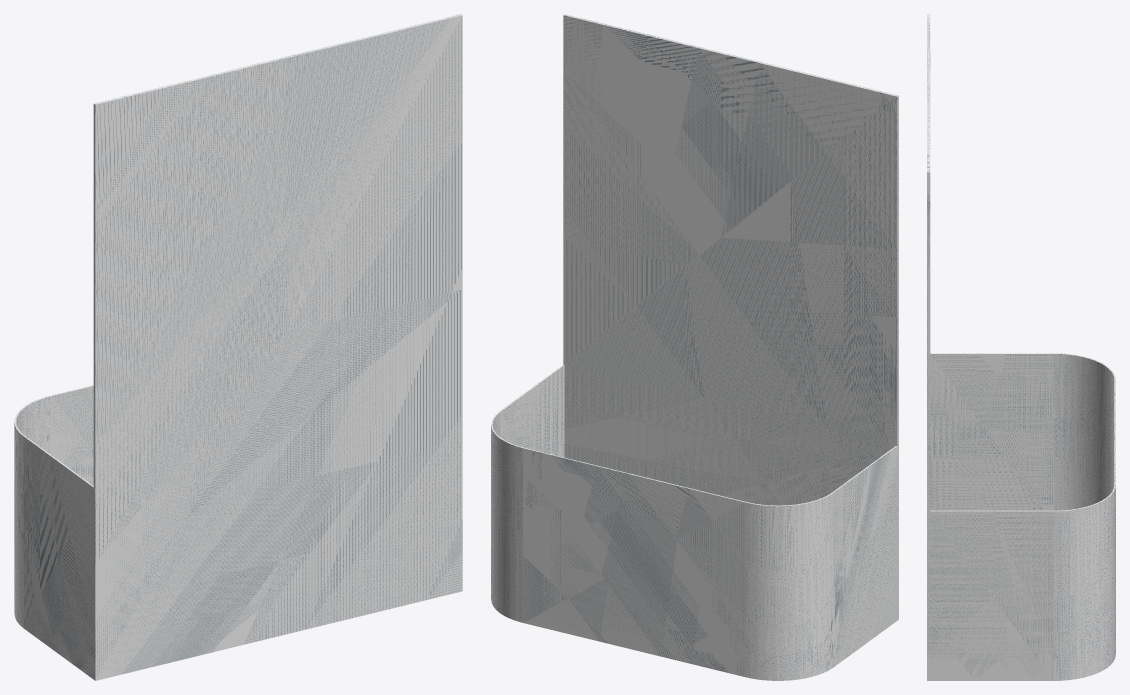
The model's file is 05_IconicBox_300-0x450-0x151-3.dae.
3 views of the same model, side by side, from view 1: azimuth 30°, elevation 25°; view 2: azimuth 150°, elevation 25°; view 3: azimuth 270°, elevation 25° (orthographic). The views are drawn at different scales.
Visible parts, largest first — view 1: SketchUp; view 2: SketchUp; view 3: SketchUp.
Part boxes in pixels (x1=…): SketchUp: x1=14, y1=14, x2=462, y2=680; SketchUp: x1=491, y1=14, x2=898, y2=680; SketchUp: x1=927, y1=14, x2=1115, y2=680.
Bounding box in the file's own units: 11.81 × 5.96 × 17.72.
